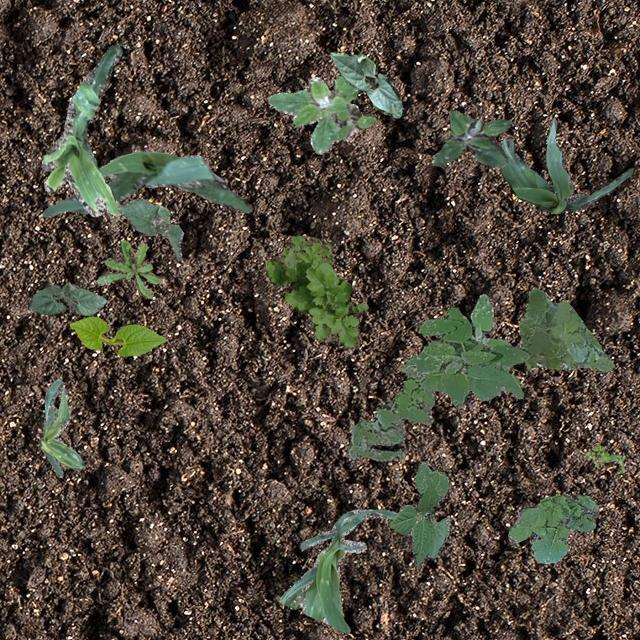crop: (277, 508, 397, 632), (42, 150, 252, 217), (40, 44, 121, 215), (499, 116, 632, 212), (388, 460, 449, 568), (328, 52, 402, 116), (39, 378, 84, 477), (116, 198, 182, 260), (68, 316, 164, 356), (26, 282, 106, 314)
weed: (346, 362, 522, 460), (399, 306, 528, 408), (264, 235, 368, 348), (268, 74, 374, 152), (518, 286, 614, 369), (507, 492, 598, 562), (432, 110, 509, 166), (94, 240, 160, 298), (468, 292, 509, 346), (586, 442, 624, 472)
